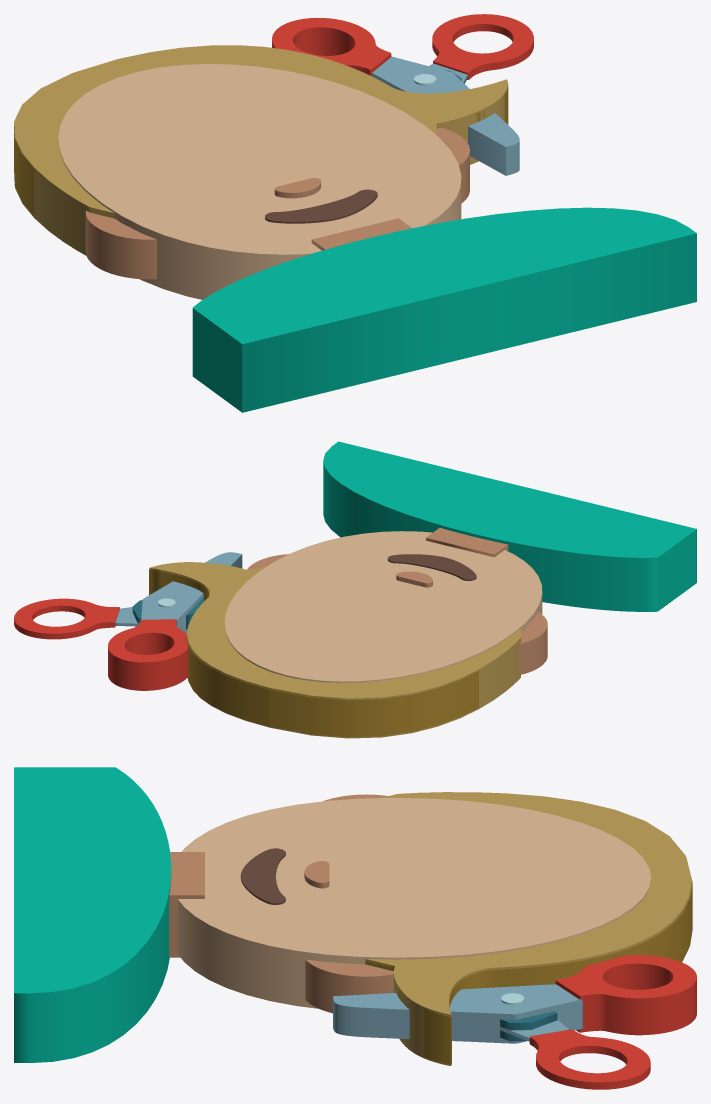
The model's file is emoji_u1f487_1f3fc_200d_2642.glb.
3 renders of one model, top to bottom at view 1: azimuth 30°, elevation 25°; view 2: azimuth 150°, elevation 25°; view 3: azimuth 270°, elevation 25°, orthographic. The views are drawn at different scales.
Visible parts, largest first — view 1: emoji_u1f487_1f3fc_200d_2642; view 2: emoji_u1f487_1f3fc_200d_2642; view 3: emoji_u1f487_1f3fc_200d_2642.
Boxes of the visible parts, bbox=[...] form: emoji_u1f487_1f3fc_200d_2642: bbox=[14, 14, 696, 412]; emoji_u1f487_1f3fc_200d_2642: bbox=[14, 441, 696, 738]; emoji_u1f487_1f3fc_200d_2642: bbox=[14, 767, 696, 1089].
Bounding box in the file's own units: 0.0331 × 0.0038 × 0.0337.
